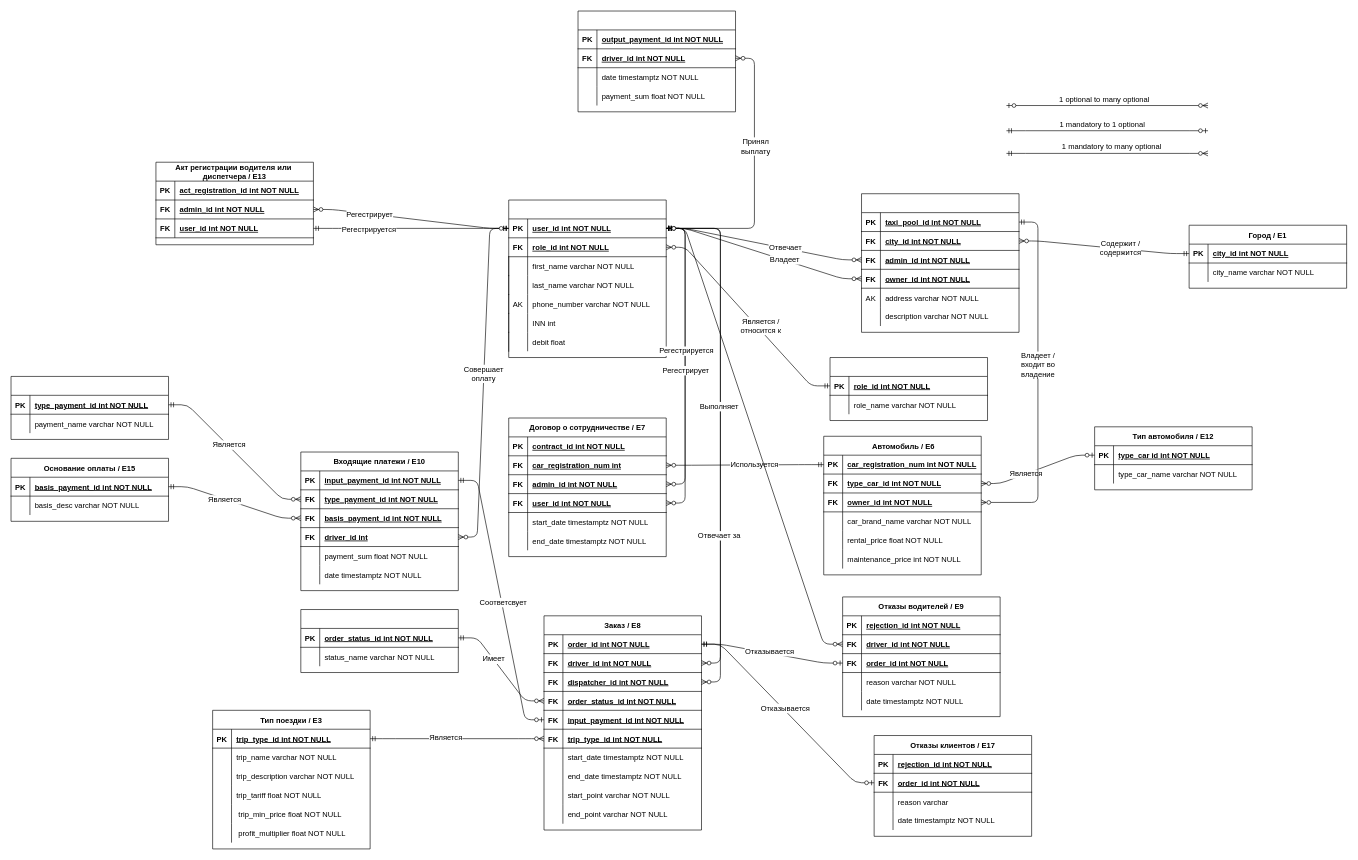
The diagram is 1358 pixels wide and 860 high, and some of its shapes have lost their labels. The box of each missing label's shape, as (x1, y1, x2, y2) in pixels:
Исходящие платежи / E11: (577, 10, 736, 112)
Пользователь системы / E4: (508, 199, 666, 358)
Роль пользователя / E5: (829, 357, 988, 421)
Статус заказа / E16: (300, 609, 458, 673)
Таксопарк / E2: (861, 193, 1019, 332)
Тип оплаты / E14: (10, 376, 169, 439)
